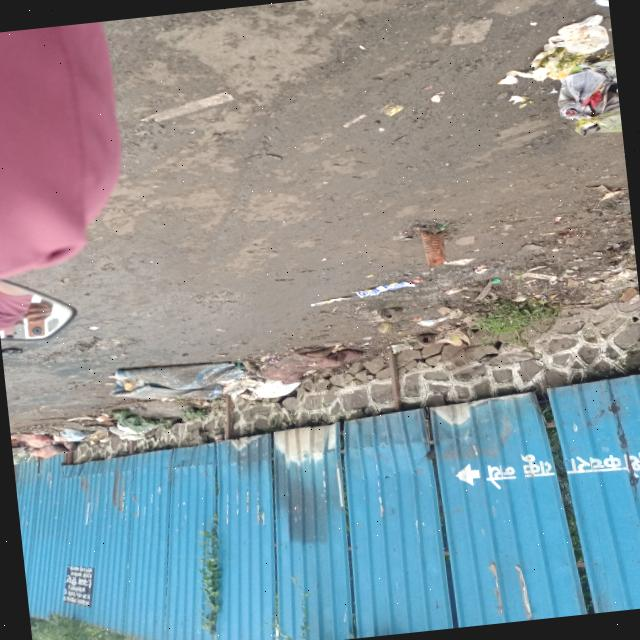garbage: (113, 345, 332, 419), (9, 406, 154, 459)
